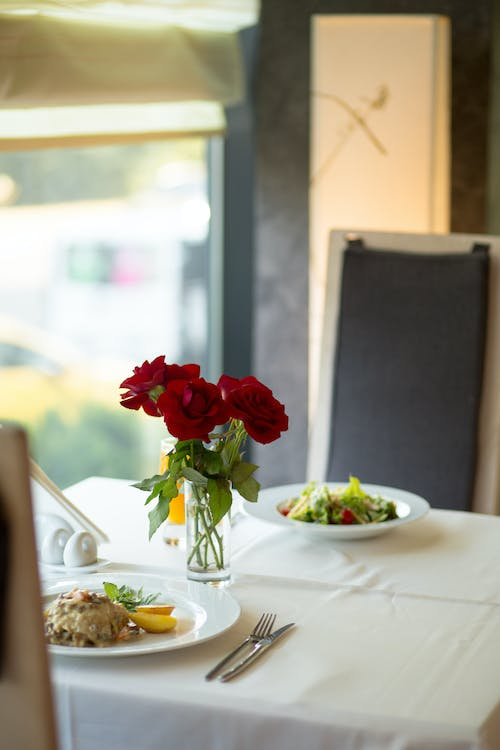knife: (216, 619, 297, 684)
